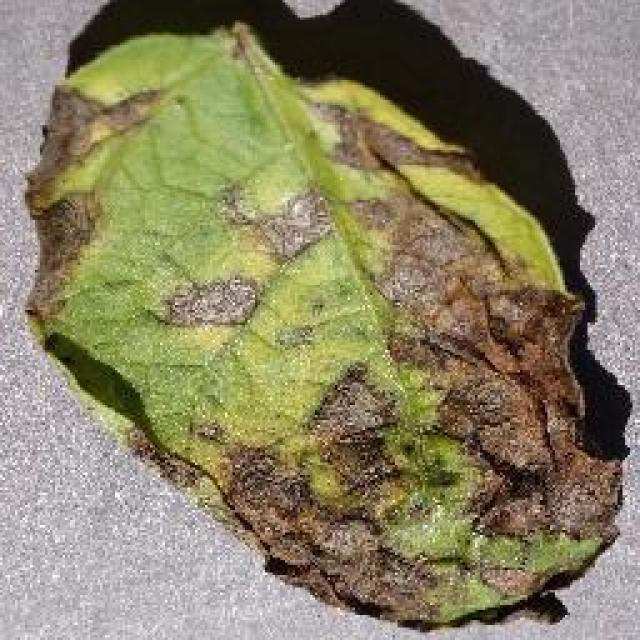Potato___Early_blight: (12, 16, 626, 634)
